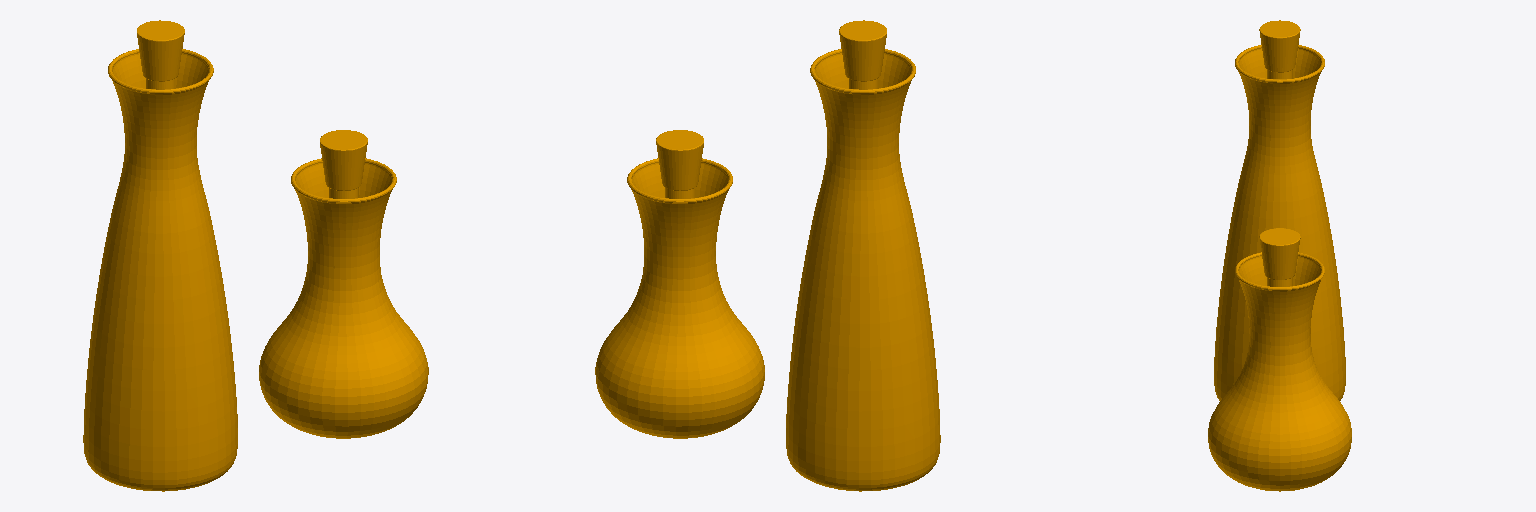
The robot description file, URDF, robot "oilvinegar":
<robot name="oilvinegar">
  <link name="oilvinegar">
    <inertial>
      <origin xyz="0 0 0.0145"/>
      <mass value="0.1" />
      <inertia  ixx="0.0001" ixy="0.0"  ixz="0.0"  iyy="0.0001"  iyz="0.0"  izz="0.0001" />
    </inertial>
    <visual>
      <origin xyz="0 0 0.0145"/>
      <geometry>        
     <mesh filename="oilvinegar.dae" scale="1 1 1"/>
    </geometry>
    </visual>
    <collision>
      <origin xyz="0 0 0.0145"/>
      <geometry>
        <box size="0.029 0.029 0.029"/>
      </geometry>
    </collision>
  </link>
  <gazebo reference="oilvinegar">
    <material>Gazebo/Blue</material>
  </gazebo>
</robot>

--- Facts derived from the render (not from the file) ---
Views: 3 orthographic renders of the robot side by side, from view 1: azimuth 30°, elevation 25°; view 2: azimuth 150°, elevation 25°; view 3: azimuth 270°, elevation 25°.
Model oilvinegar with 1 links and 0 joints (none), rooted at oilvinegar, posed all joints at 0.
Links seen in each view (by area): view 1: oilvinegar; view 2: oilvinegar; view 3: oilvinegar.
Link boxes in pixels (x1,y1,x2,y2): oilvinegar: (83, 20, 428, 491); oilvinegar: (595, 20, 940, 491); oilvinegar: (1208, 20, 1351, 491).
Size in the robot's own frame: 0.1944 by 0.0883 by 0.2499 metres.
1 mesh visuals loaded from 1 distinct referenced files (1 Collada DAE).